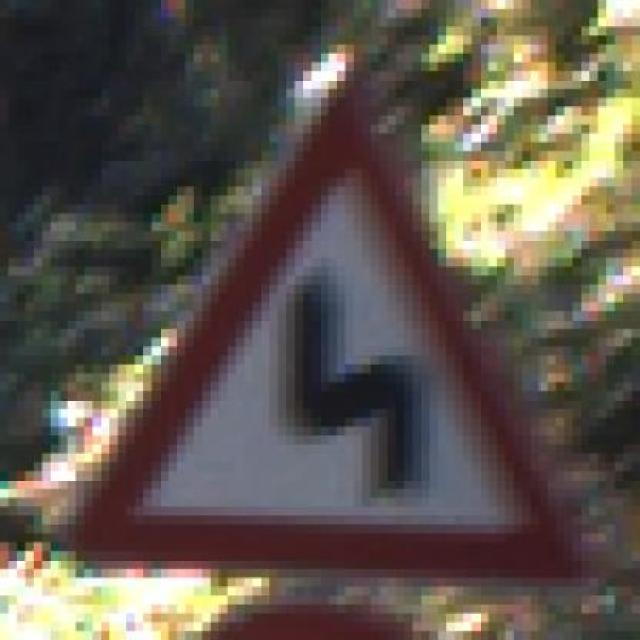Left Zig Zag Traffic: (59, 53, 582, 587)
